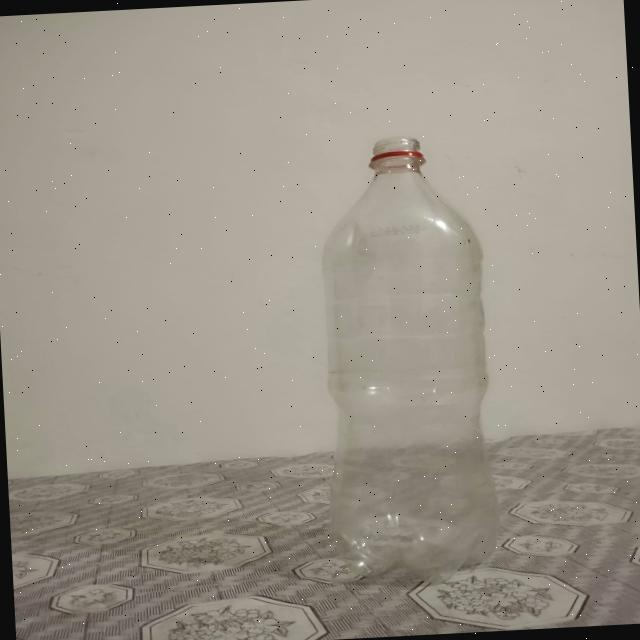bottle: (318, 130, 510, 590)
